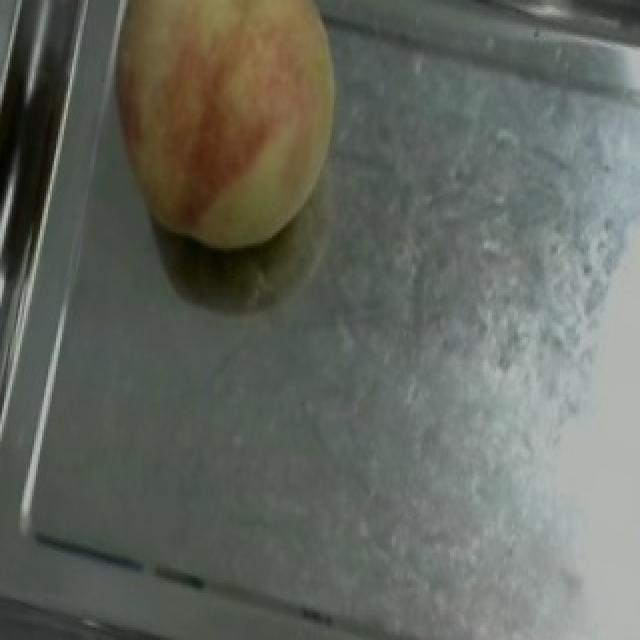Fruit: (86, 0, 364, 275)
